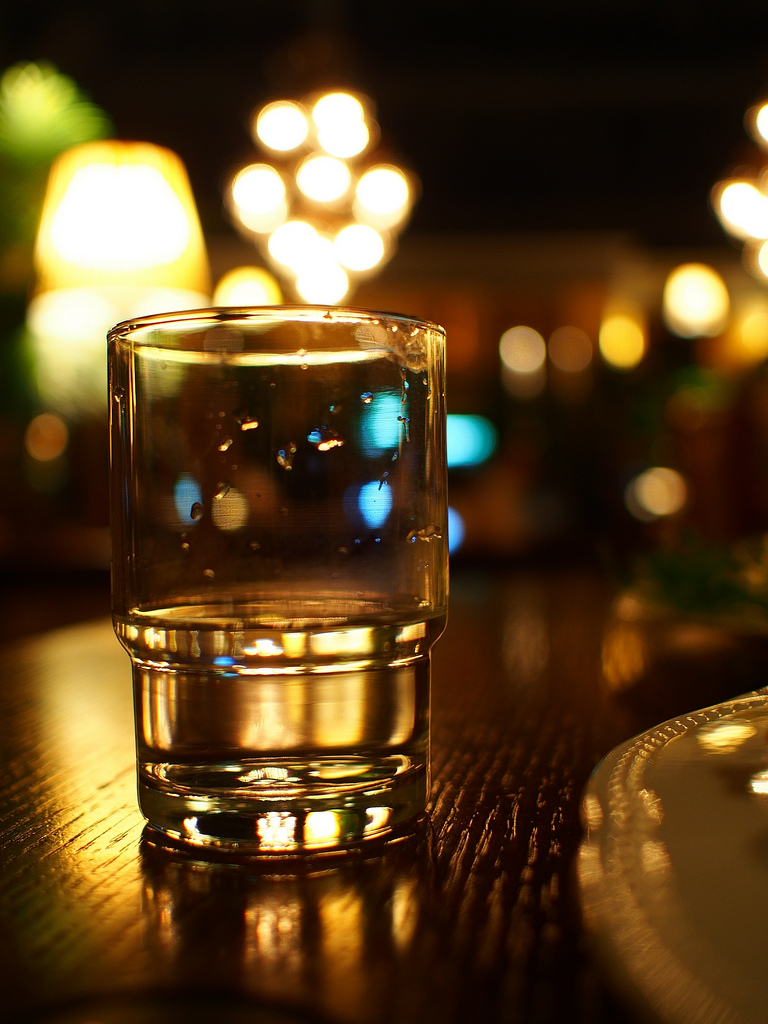glass of water: (98, 312, 440, 843)
